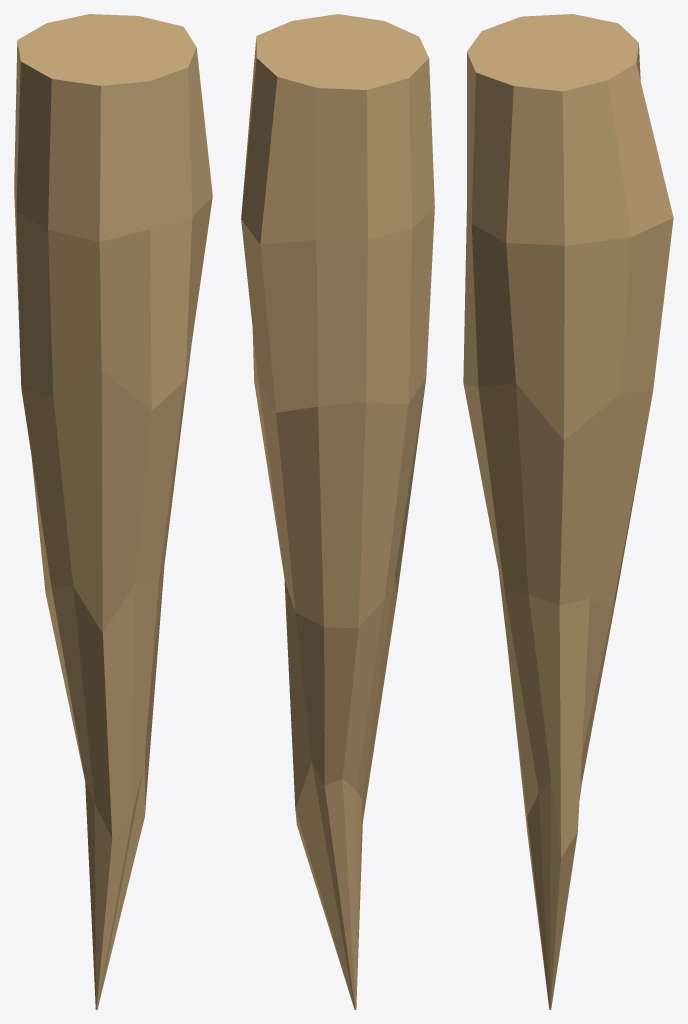
Rendered from onepilar.glb.
The picture shows the model from 3 angles, left to right: view 1: azimuth 30°, elevation 25°; view 2: azimuth 150°, elevation 25°; view 3: azimuth 270°, elevation 25°; orthographic projection.
Parts seen in each view (by area): view 1: Island.004; view 2: Island.004; view 3: Island.004.
Part boxes in pixels (x1=…): Island.004: x1=14, y1=14, x2=212, y2=1009; Island.004: x1=241, y1=14, x2=434, y2=1009; Island.004: x1=463, y1=14, x2=673, y2=1009.
Bounding box in the file's own units: 7.97 × 43.29 × 8.56.
